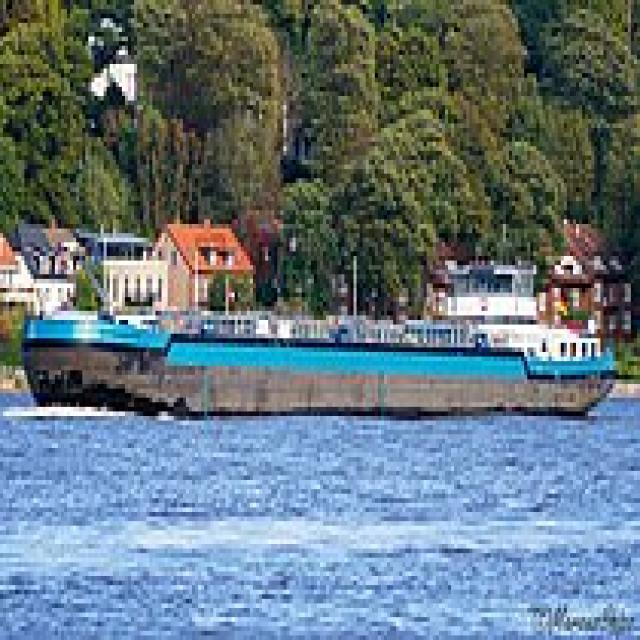Tanker: (18, 252, 613, 412)
